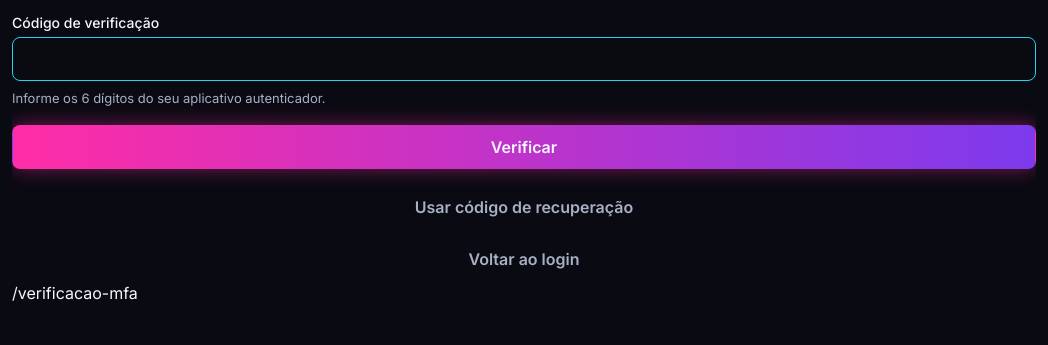
Test: MfaForm (AUTH-004) › valida os 6 digitos antes de enviar
Type "123" into the field labelled "Código de verificação".
click(524, 59); type("123")  # box [12,37,1036,81]
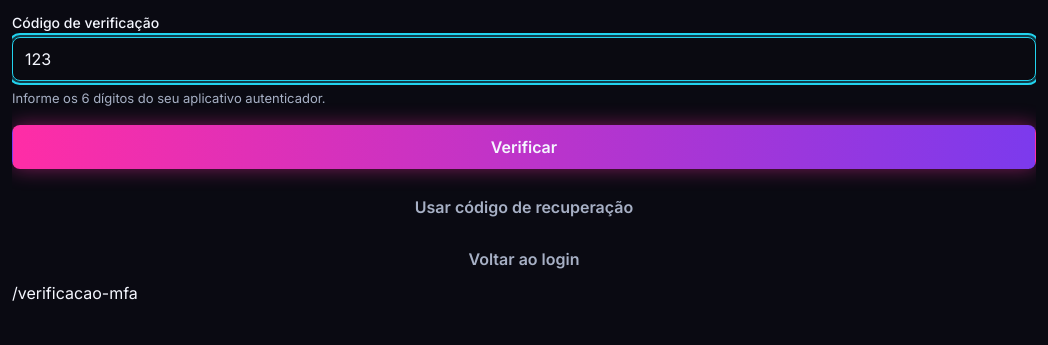
Click the button "Verificar".
click(524, 146)  # box [12,124,1036,168]
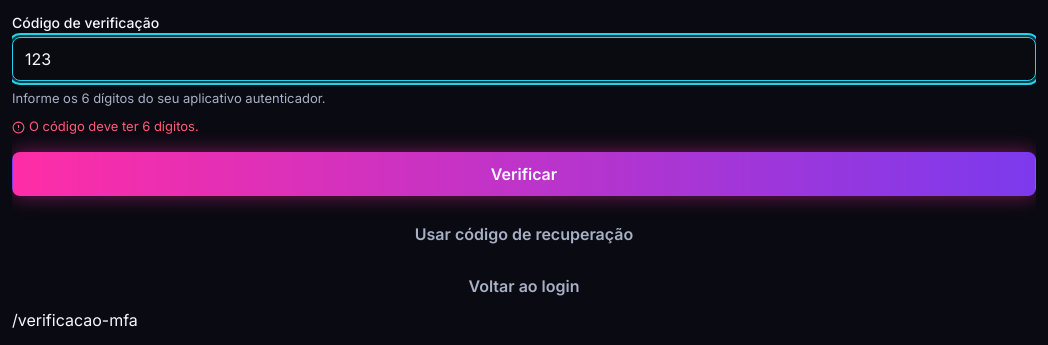
Check: the text "O código deve ter 6 dígitos." is shown, box [29,116,199,136]
